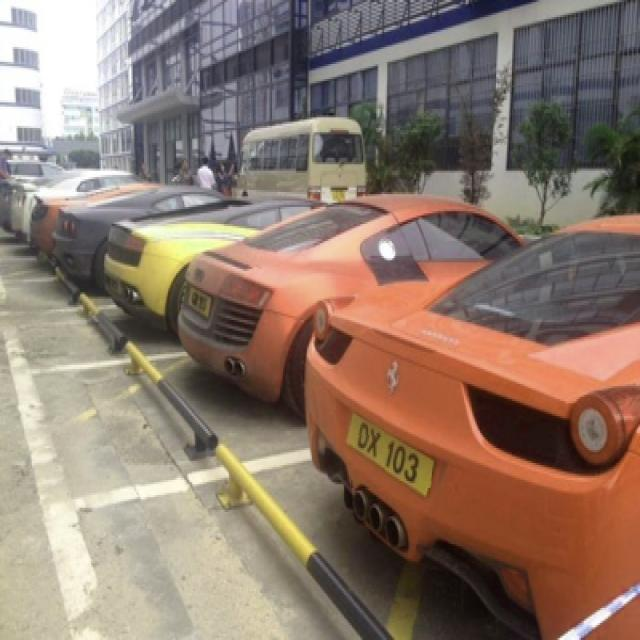licence: (349, 412, 432, 488)
